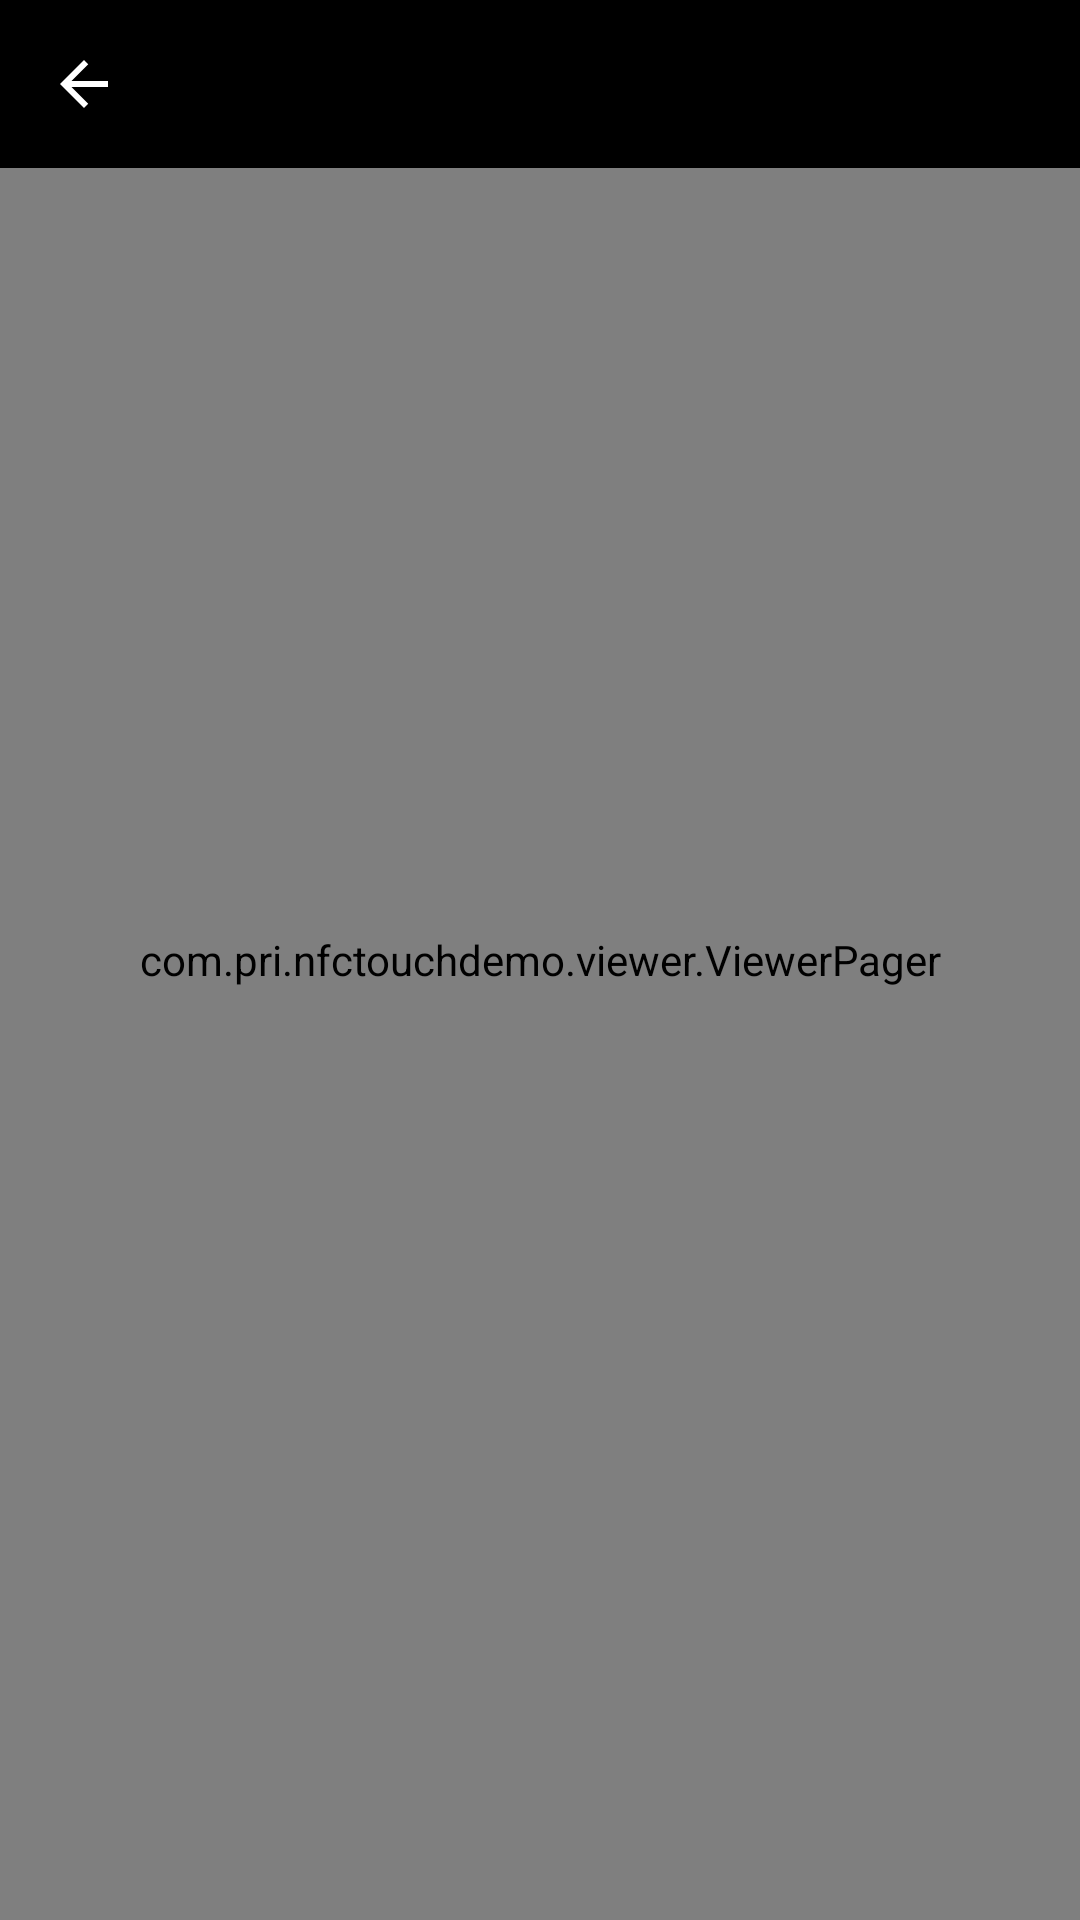

Screen size 1080x1920. Icon name, then its center in pixels as (x=x, y=y):
返回: (x=84, y=84)
